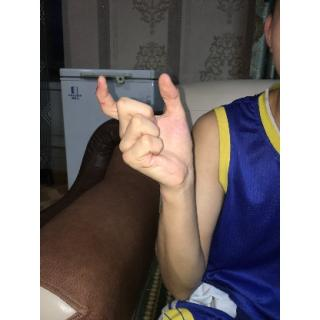NOON: (94, 68, 196, 196)
